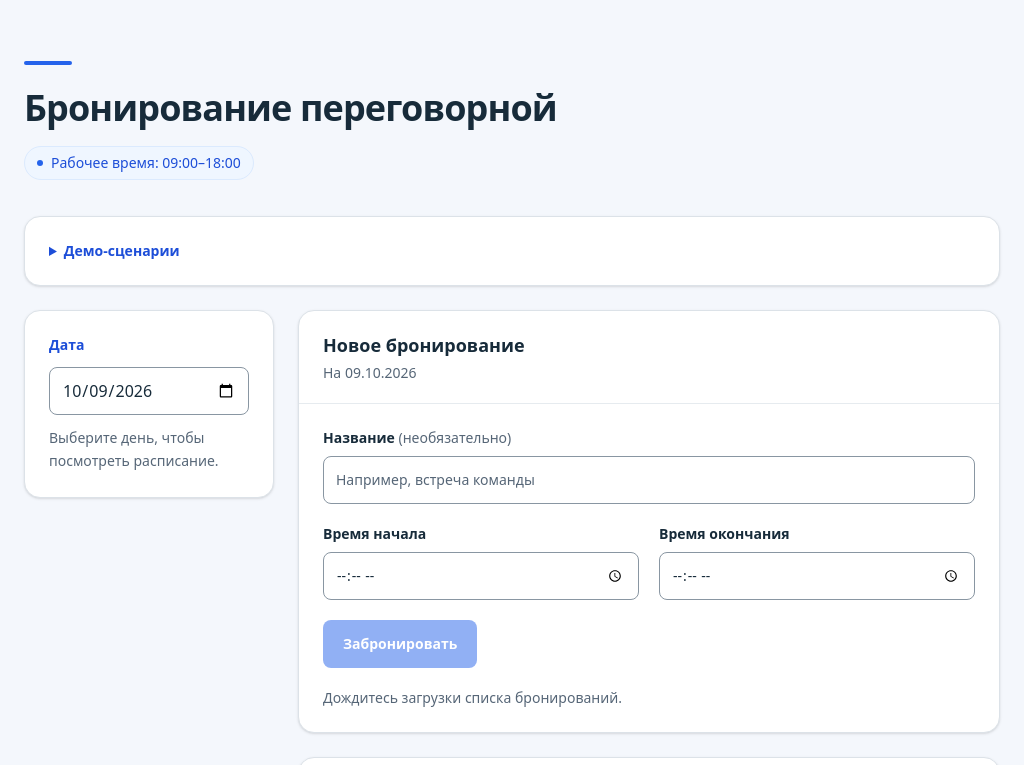
a delayed old-date response cannot overwrite the newly selected date
This screenshot has width=1024, height=765.
In the date field labelled "Дата": [149, 391] box [49,367,249,415], type "2026-10-10"
(page scrolled)
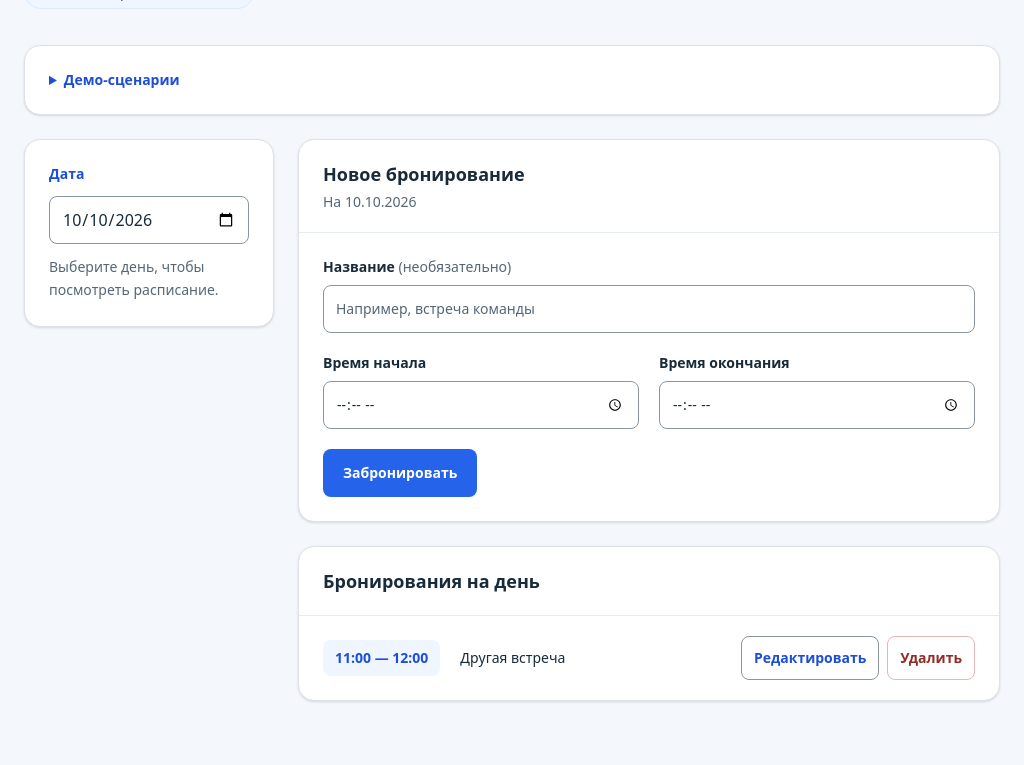
Result: the text "Другая встреча" is shown at [460,648,565,667]
